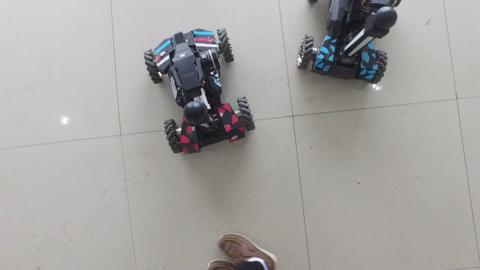chariot: (139, 25, 261, 164), (293, 1, 407, 91)
